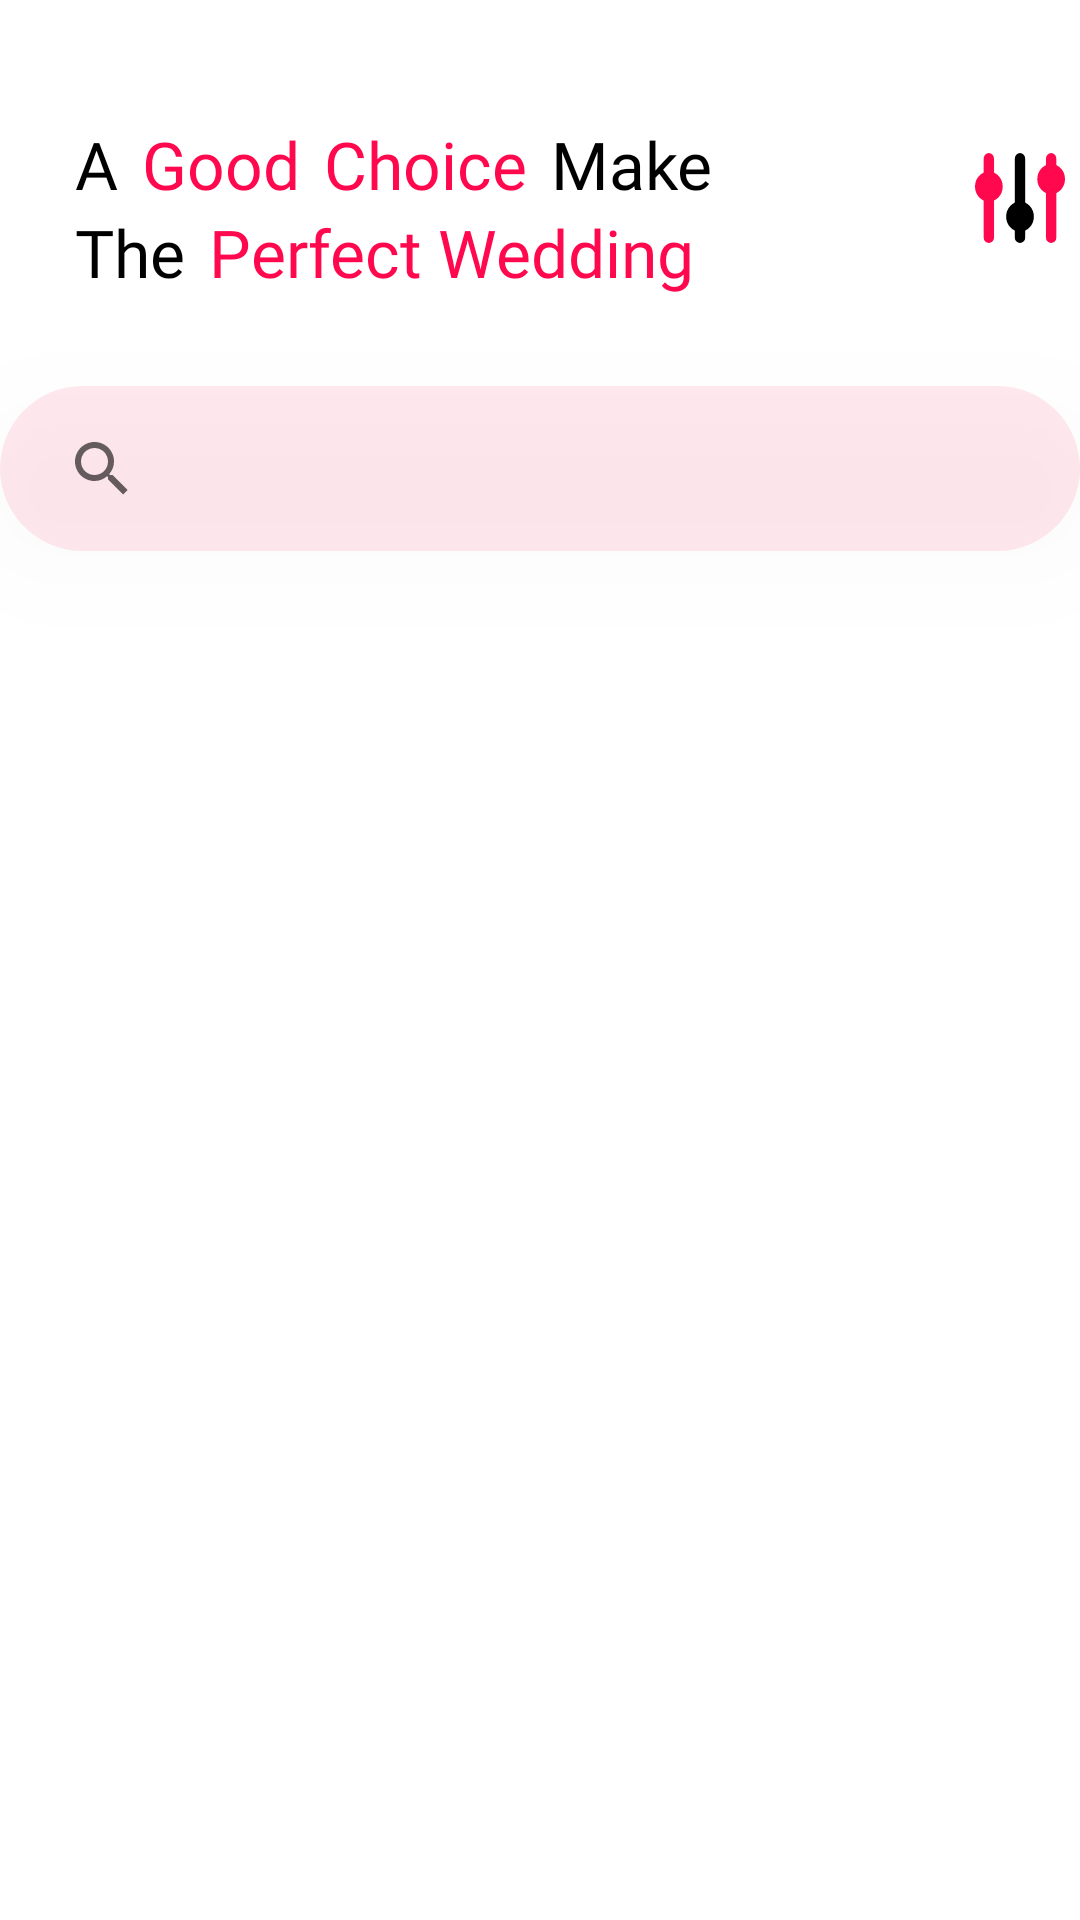

Named icons in this screenshot (1080w x 1920h) and their centers, (x,y):
settings: (1020,198)
